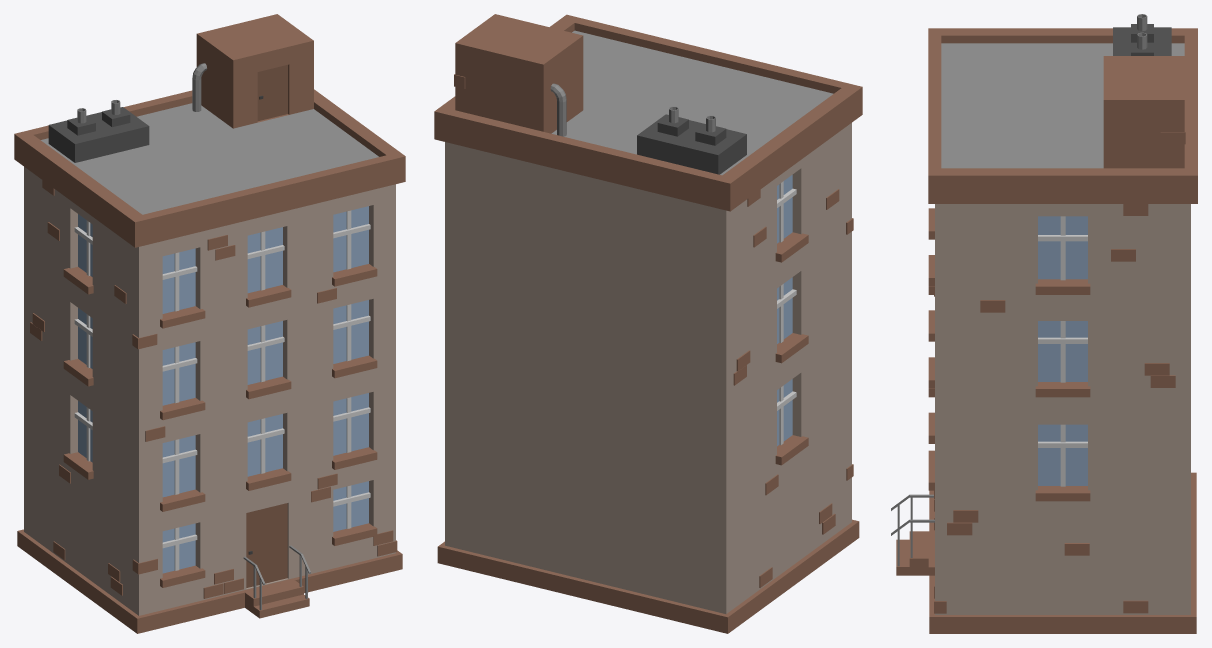
Rendered from House_01.fbx.
The picture shows the model from 3 angles, left to right: view 1: azimuth 30°, elevation 25°; view 2: azimuth 150°, elevation 25°; view 3: azimuth 270°, elevation 25°; orthographic projection. The views are drawn at different scales.
Parts seen in each view (by area): view 1: House_01; view 2: House_01; view 3: House_01.
Boxes of the visible parts, x1,y1,x2,y2 form: House_01: [14, 14, 405, 633]; House_01: [434, 14, 862, 633]; House_01: [891, 14, 1197, 633].
Size of the model in its own units: 714 by 1196 by 629.
